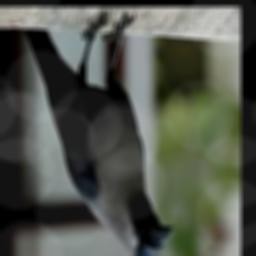Crow: (22, 10, 174, 256)
